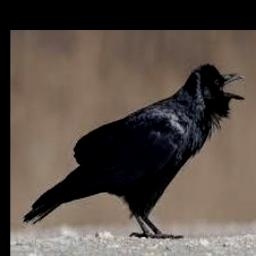Crow: (24, 63, 246, 239)
